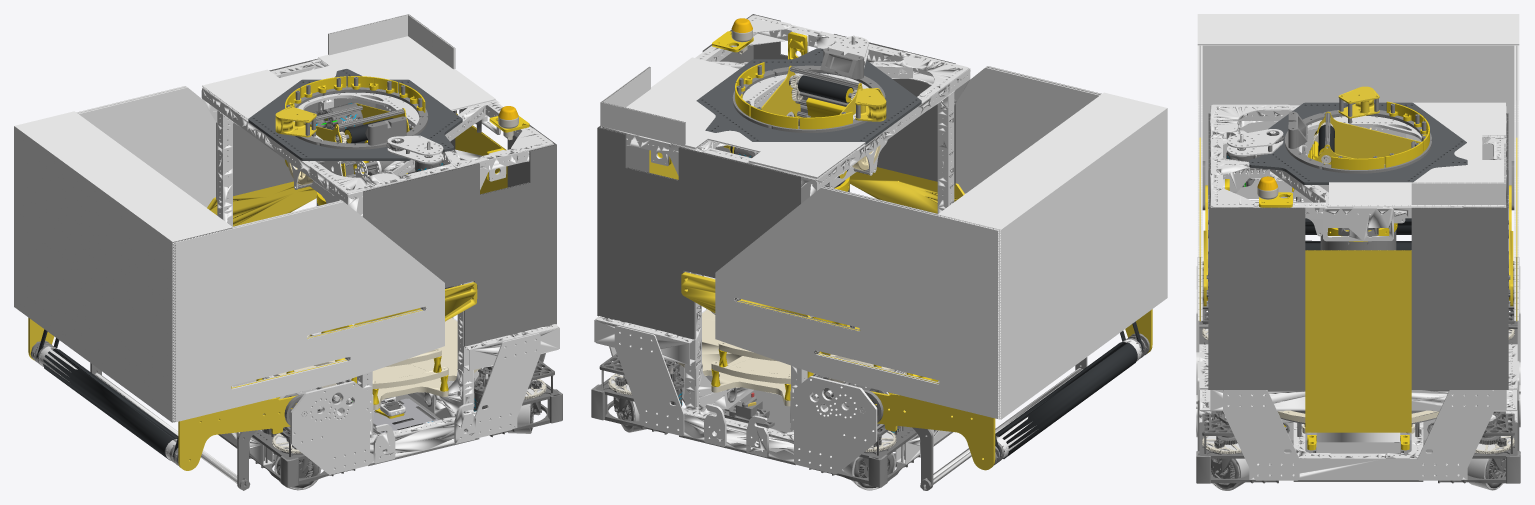
Rendered from toploader-604.glb.
The picture shows the model from 3 angles, left to right: view 1: azimuth 30°, elevation 25°; view 2: azimuth 150°, elevation 25°; view 3: azimuth 270°, elevation 25°; orthographic projection. The views are drawn at different scales.
Parts seen in each view (by area): view 1: hopper-slide, frame, intake, turret, hood; view 2: hopper-slide, frame, intake, turret, hood; view 3: frame, hopper-slide, turret, hood, intake, serializer.
Part boxes in pixels (box(x1,y1,x2,y2)): hopper-slide: box(14, 86, 444, 422); frame: box(201, 14, 562, 490); intake: box(28, 317, 299, 490); turret: box(275, 76, 428, 203); hood: box(303, 102, 412, 177); hopper-slide: box(715, 66, 1167, 419); frame: box(591, 14, 970, 490); intake: box(867, 309, 1152, 490); turret: box(732, 48, 887, 188); hood: box(723, 65, 862, 157); frame: box(1196, 102, 1520, 490); hopper-slide: box(1197, 14, 1519, 321); turret: box(1284, 86, 1432, 236); hood: box(1307, 111, 1420, 164); intake: box(1202, 161, 1514, 316); serializer: box(1320, 223, 1397, 250).
Bounding box in the file's own units: 0.9827 × 0.7493 × 0.6985.
